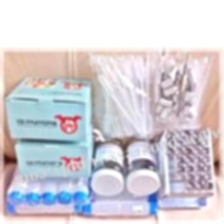book: (3, 73, 95, 144), (11, 117, 98, 180)
